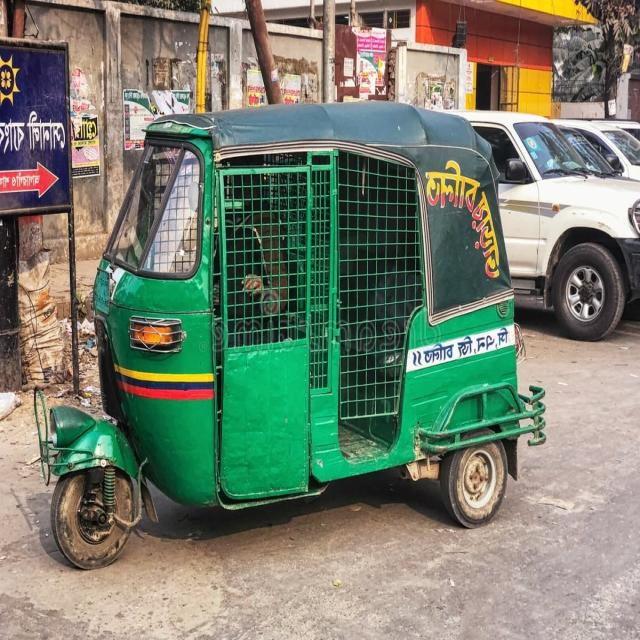CNG: (15, 99, 555, 588)
Car: (386, 94, 640, 335)
